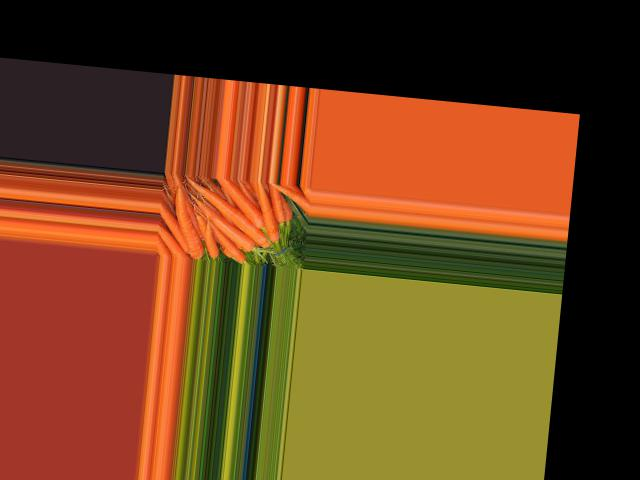carrot: (212, 177, 268, 228)
